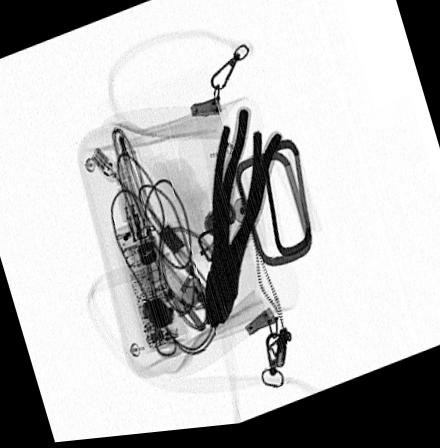Pliers: (205, 110, 283, 333), (204, 129, 262, 329)
